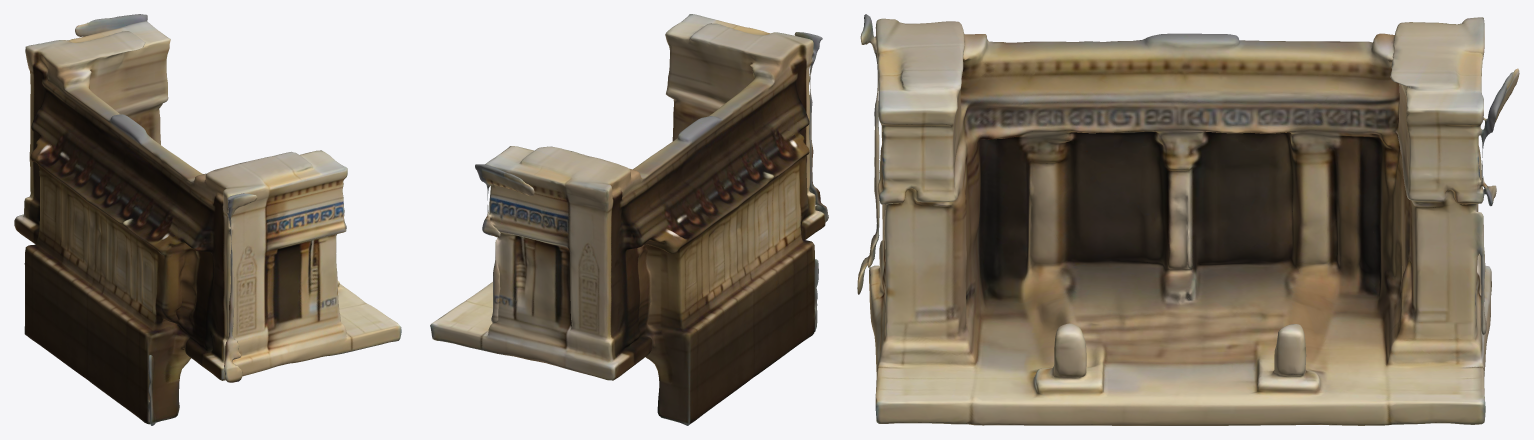
Rendered from academy.glb.
The picture shows the model from 3 angles, left to right: view 1: azimuth 30°, elevation 25°; view 2: azimuth 150°, elevation 25°; view 3: azimuth 270°, elevation 25°; orthographic projection. The views are drawn at different scales.
Visible parts, largest first — view 1: tripo_node_4f0c88e7-03ea-47a5-818b-fd5694676c37; view 2: tripo_node_4f0c88e7-03ea-47a5-818b-fd5694676c37; view 3: tripo_node_4f0c88e7-03ea-47a5-818b-fd5694676c37.
Boxes of the visible parts, left/top/right/bottom form: tripo_node_4f0c88e7-03ea-47a5-818b-fd5694676c37: left=14, top=14, right=401, bottom=425; tripo_node_4f0c88e7-03ea-47a5-818b-fd5694676c37: left=430, top=14, right=828, bottom=425; tripo_node_4f0c88e7-03ea-47a5-818b-fd5694676c37: left=857, top=14, right=1519, bottom=425.
Size of the model in its own units: 0.4972 by 0.5535 by 0.8832.
1 material, 1 textured.
